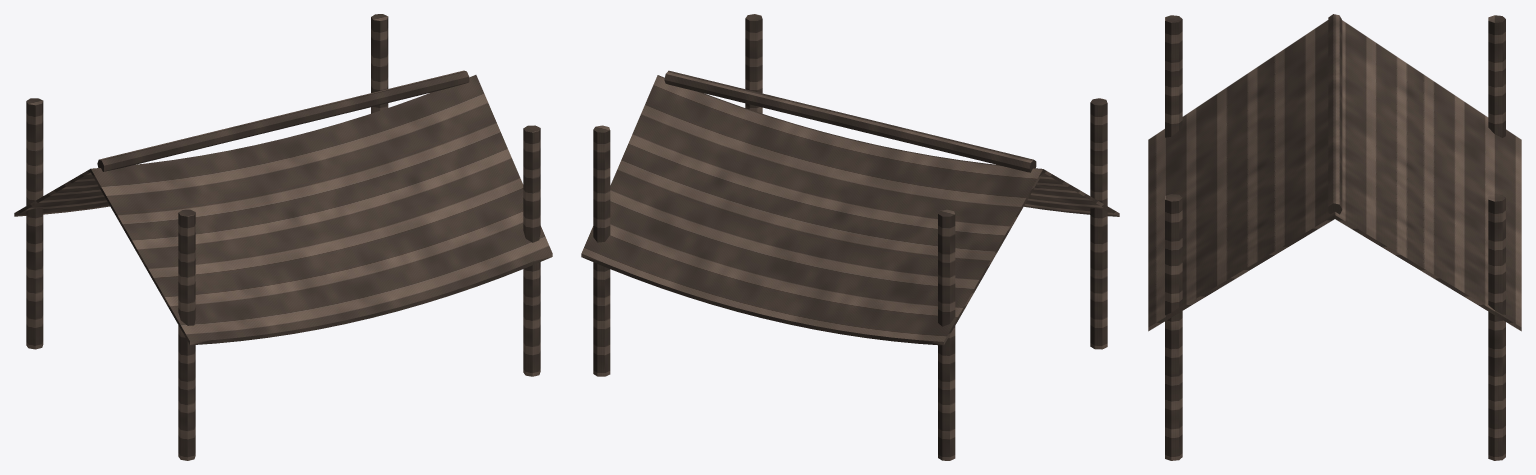
Rendered from awning.glb.
3 views of the same model, side by side, from view 1: azimuth 30°, elevation 25°; view 2: azimuth 150°, elevation 25°; view 3: azimuth 270°, elevation 25° (orthographic). The views are drawn at different scales.
Visible parts, largest first — view 1: awning; view 2: awning; view 3: awning.
Boxes of the visible parts, x1,y1,x2,y2 form: awning: (14,14,552,460); awning: (581,14,1119,460); awning: (1148,14,1521,460).
Bounding box in the file's own units: 3.8 × 2.3 × 3.
Materials: 1 (1 with a texture image).
